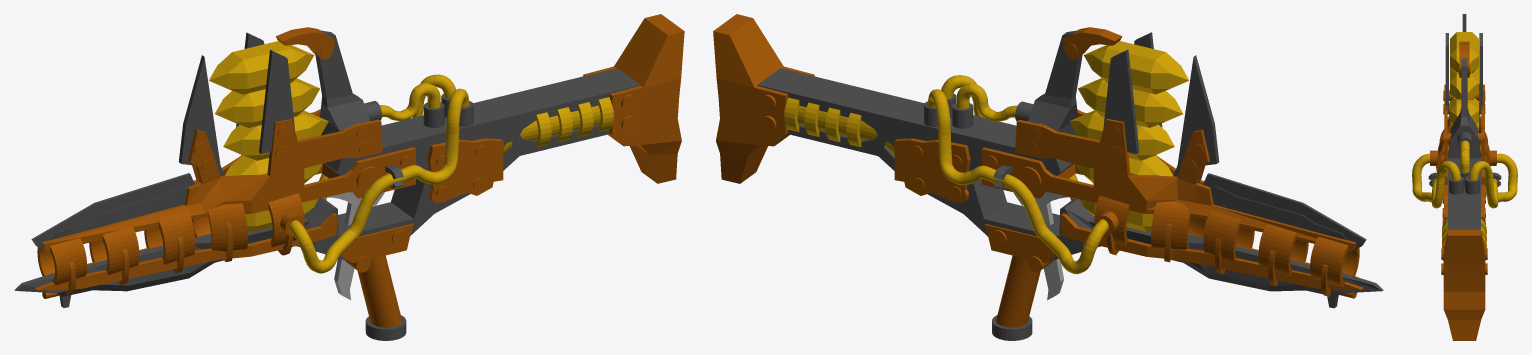
Rendered from lightstone_rifle.obj.
3 views of the same model, side by side, from view 1: azimuth 30°, elevation 25°; view 2: azimuth 150°, elevation 25°; view 3: azimuth 270°, elevation 25° (orthographic). The views are drawn at different scales.
Visible parts, largest first — view 1: Mesh.002_Cube.007; view 2: Mesh.002_Cube.007; view 3: Mesh.002_Cube.007.
Boxes of the visible parts, x1,y1,x2,y2 form: Mesh.002_Cube.007: (14,14,684,340); Mesh.002_Cube.007: (713,14,1383,340); Mesh.002_Cube.007: (1412,14,1517,340).
Size of the model in its own units: 8.29 by 3.88 by 1.62.
